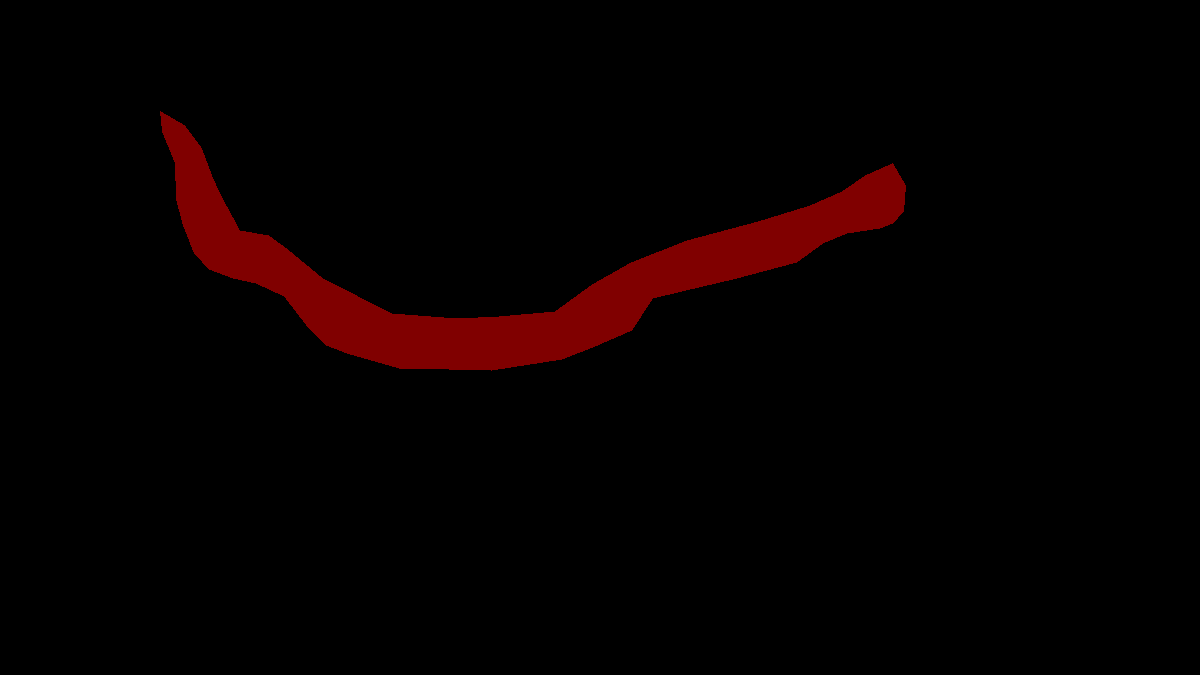fire: (160, 111, 905, 370)
